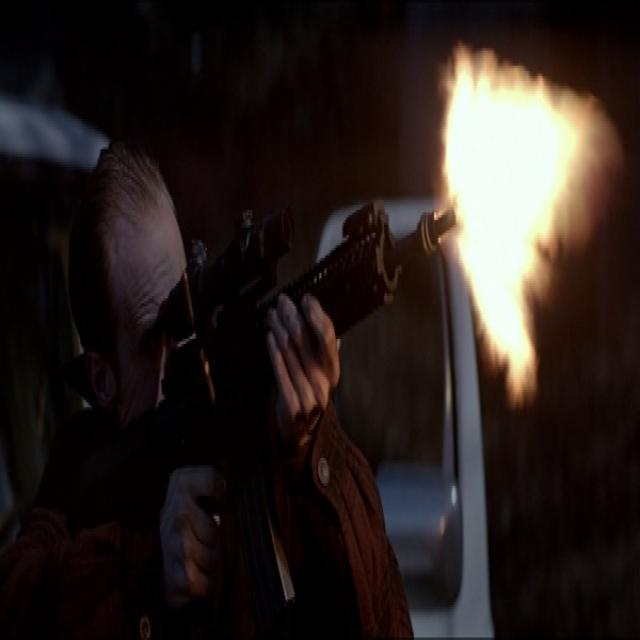rifle: (110, 184, 469, 553)
